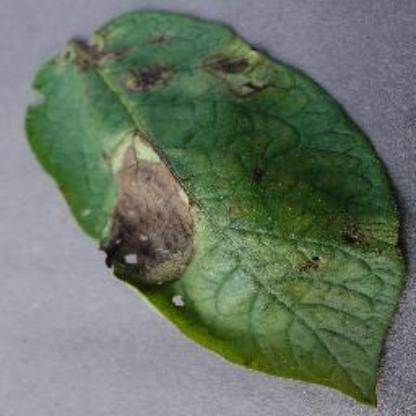Late-Blight: (21, 3, 404, 409)
